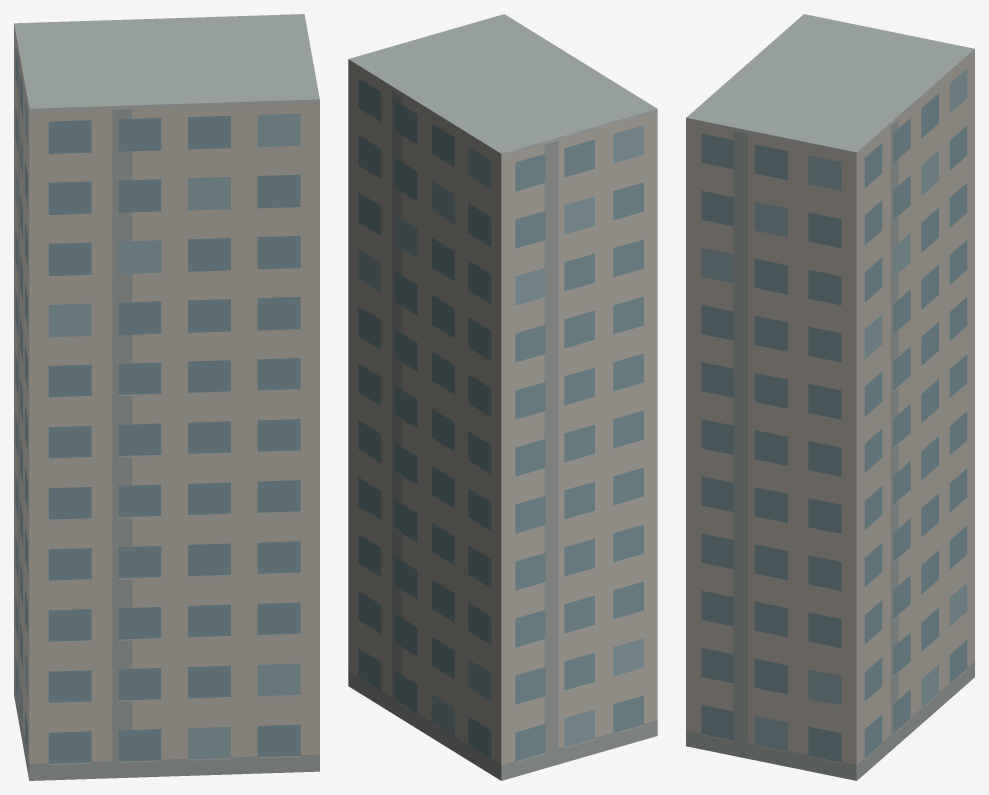
Rendered from residential-4ff07f82-dbc5-4f6e-b92d-f8cd4456442a.glb.
The picture shows the model from 3 angles, left to right: view 1: azimuth 30°, elevation 25°; view 2: azimuth 150°, elevation 25°; view 3: azimuth 270°, elevation 25°; orthographic projection. The views are drawn at different scales.
Visible parts, largest first — view 1: residential-4ff07f82-dbc5-4f6e-b92d-f8cd4456442a.tmp; view 2: residential-4ff07f82-dbc5-4f6e-b92d-f8cd4456442a.tmp; view 3: residential-4ff07f82-dbc5-4f6e-b92d-f8cd4456442a.tmp.
Part boxes in pixels (x1=…): residential-4ff07f82-dbc5-4f6e-b92d-f8cd4456442a.tmp: x1=14, y1=14, x2=319, y2=780; residential-4ff07f82-dbc5-4f6e-b92d-f8cd4456442a.tmp: x1=348, y1=14, x2=657, y2=780; residential-4ff07f82-dbc5-4f6e-b92d-f8cd4456442a.tmp: x1=686, y1=14, x2=974, y2=780.
Size of the model in its own units: 20.8 by 44 by 18.33.
